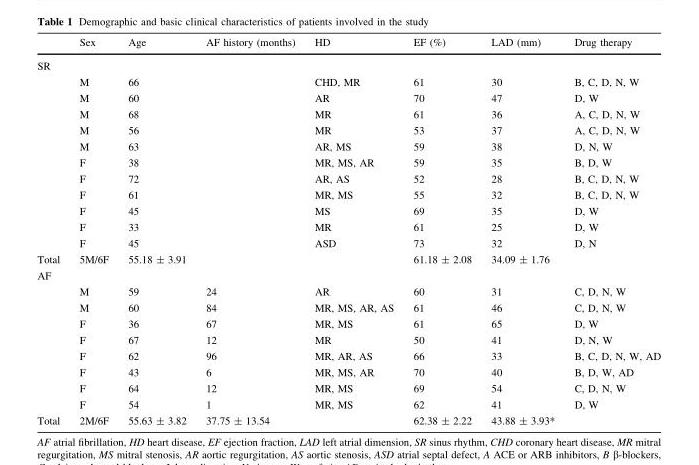table: (36, 37, 660, 425)
table column: (195, 37, 304, 425), (304, 37, 402, 425), (563, 37, 660, 425), (480, 37, 563, 425), (117, 37, 195, 425), (402, 37, 480, 425), (69, 37, 117, 425), (36, 37, 69, 425)
table column header: (36, 37, 660, 54)
table projected row header: (36, 54, 660, 74), (36, 267, 660, 283)
table row: (36, 54, 660, 74), (36, 37, 660, 54), (36, 186, 660, 203), (36, 315, 660, 332), (36, 74, 660, 90), (36, 90, 660, 106), (36, 106, 660, 122), (36, 122, 660, 138), (36, 138, 660, 154), (36, 154, 660, 170), (36, 170, 660, 186), (36, 203, 660, 219), (36, 219, 660, 235), (36, 235, 660, 251), (36, 251, 660, 267), (36, 267, 660, 283), (36, 283, 660, 299), (36, 299, 660, 315), (36, 332, 660, 348), (36, 348, 660, 364), (36, 364, 660, 380), (36, 380, 660, 396), (36, 396, 660, 412), (36, 412, 660, 425)
